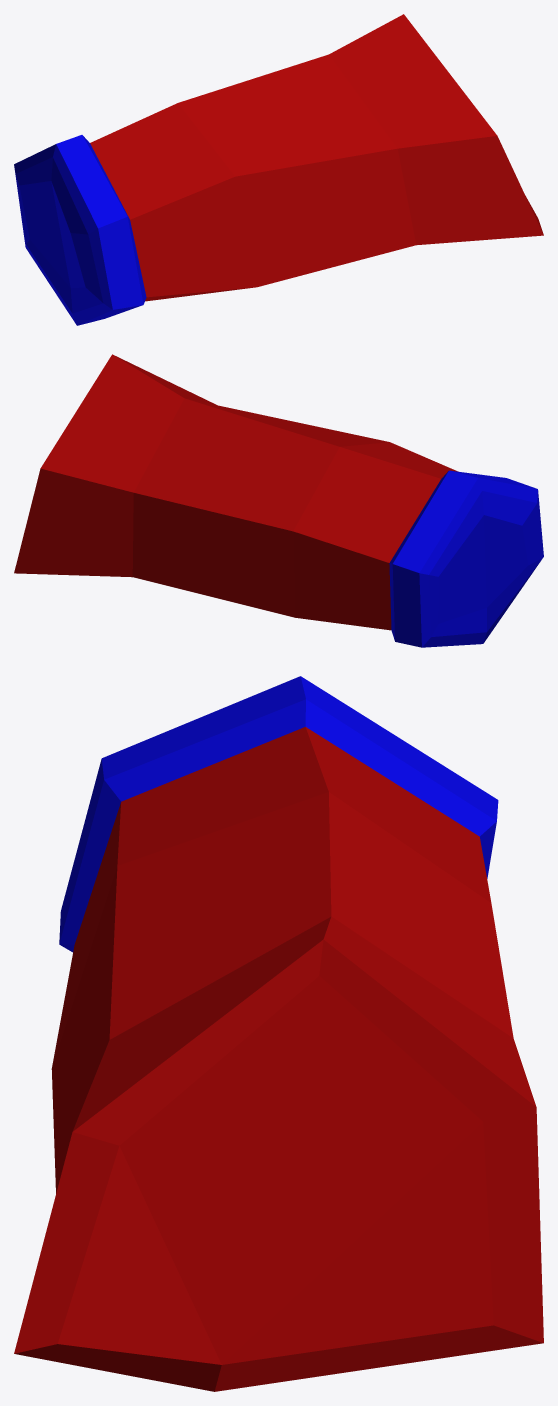
The model's file is Chr_ArmUpperRight_Male_Static_18.fbx.
3 renders of one model, top to bottom at view 1: azimuth 30°, elevation 25°; view 2: azimuth 150°, elevation 25°; view 3: azimuth 270°, elevation 25°, orthographic. The views are drawn at different scales.
Visible parts, largest first — view 1: Chr_ArmUpperRight_Male_18; view 2: Chr_ArmUpperRight_Male_18; view 3: Chr_ArmUpperRight_Male_18.
Boxes of the visible parts, box(x1,y1,x2,y2) form: Chr_ArmUpperRight_Male_18: box(14, 14, 543, 325); Chr_ArmUpperRight_Male_18: box(14, 354, 543, 647); Chr_ArmUpperRight_Male_18: box(14, 676, 543, 1391).
Size of the model in its own units: 32.55 by 15.29 by 17.36.
